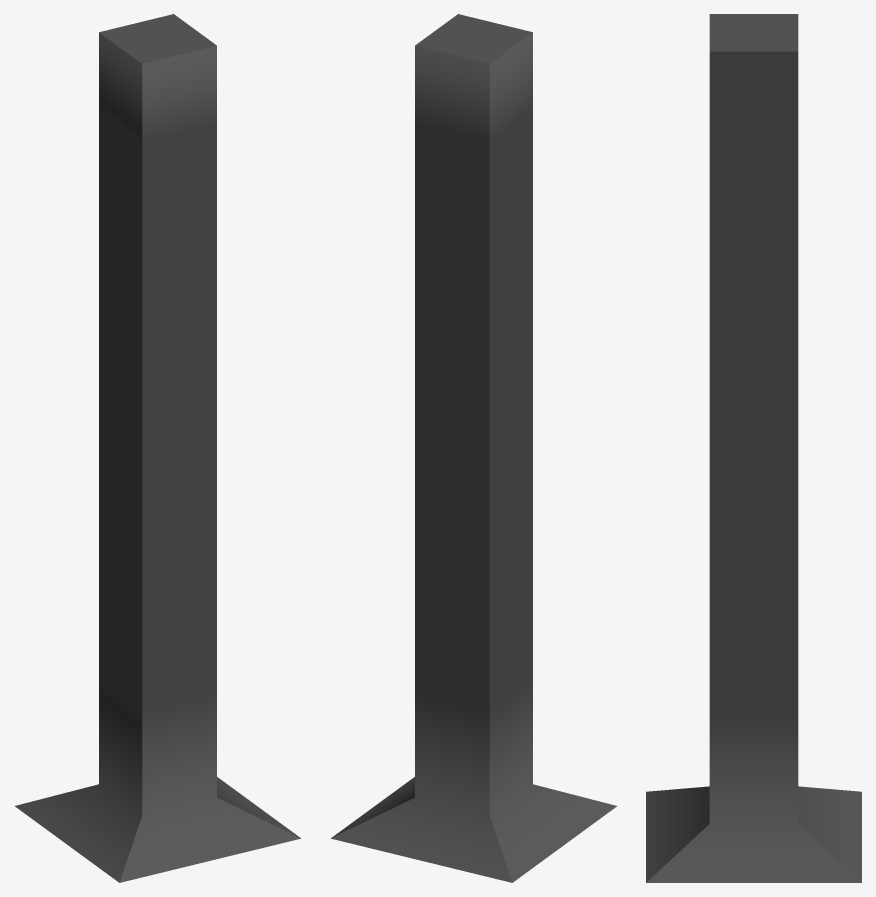
File: fence stand.FBX
The picture shows the model from 3 angles, left to right: view 1: azimuth 30°, elevation 25°; view 2: azimuth 150°, elevation 25°; view 3: azimuth 270°, elevation 25°; orthographic projection. The views are drawn at different scales.
Visible parts, largest first — view 1: fence stand; view 2: fence stand; view 3: fence stand.
Part boxes in pixels (x1,y1,x2,y2): fence stand: [15, 14, 300, 882]; fence stand: [331, 14, 616, 882]; fence stand: [646, 14, 861, 882].
Bounding box in the file's own units: 9.57 × 39.37 × 9.57.
